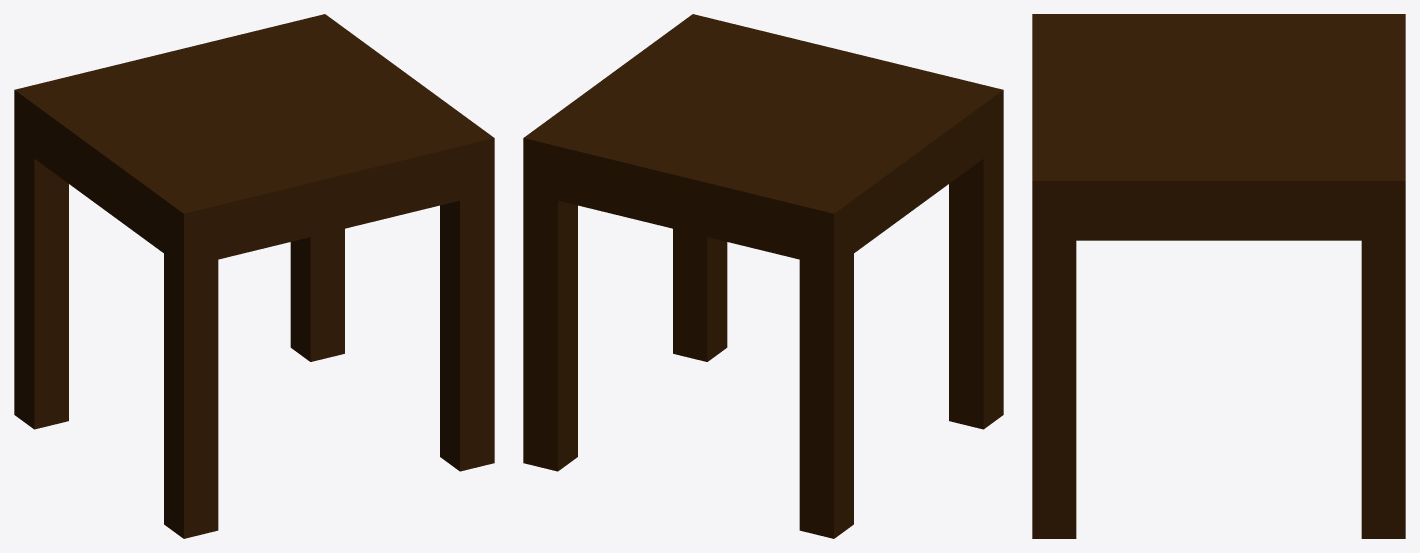
Rendered from Table.obj.
3 renders of one model, left to right at view 1: azimuth 30°, elevation 25°; view 2: azimuth 150°, elevation 25°; view 3: azimuth 270°, elevation 25°, orthographic. The views are drawn at different scales.
Bounding box in the file's own units: 1.8 × 1.8 × 1.7.
Materials: 1 (1 with a texture image).
